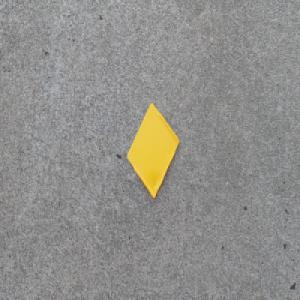PlasticPart: (126, 102, 180, 200)
